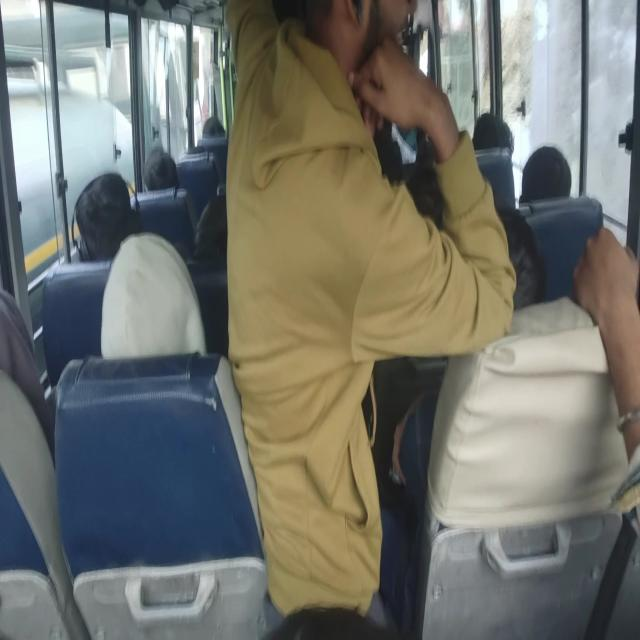person: (223, 0, 414, 458), (450, 198, 544, 314), (107, 244, 198, 359), (71, 178, 142, 260), (516, 150, 576, 205), (0, 295, 27, 409), (468, 94, 512, 151), (192, 202, 228, 266), (142, 150, 178, 189), (199, 111, 226, 146)
